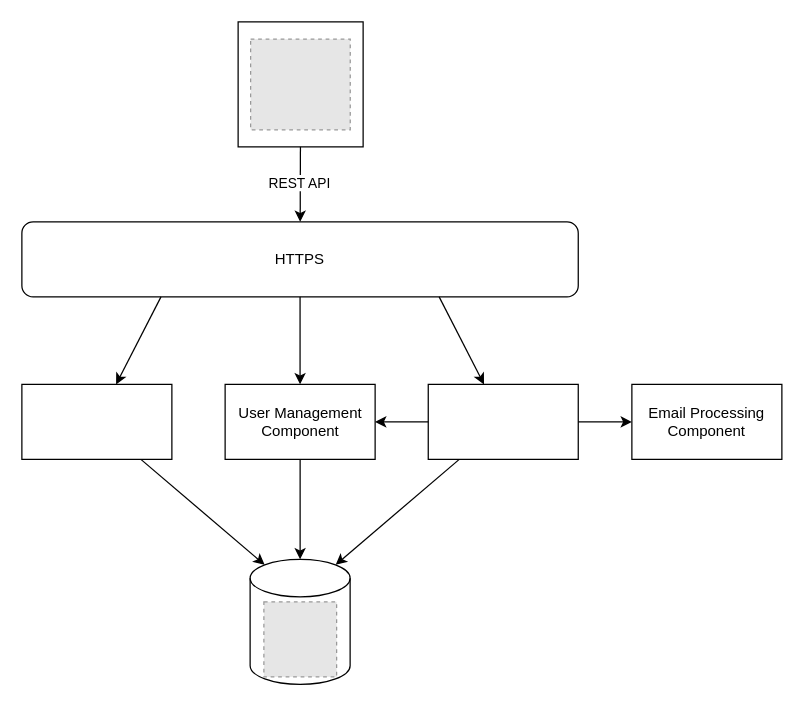
Image size: 804x706. Some labels were removed from this diagram. Grey dashed boxes stand in for pictures. The shapes that lost their labels are listed below. From the top down, each one's box as (x1, y1, x2, y2) in pixels, then its label:
(21, 383, 172, 459): UI Data Management Component
(427, 383, 578, 459): Session Management Component
